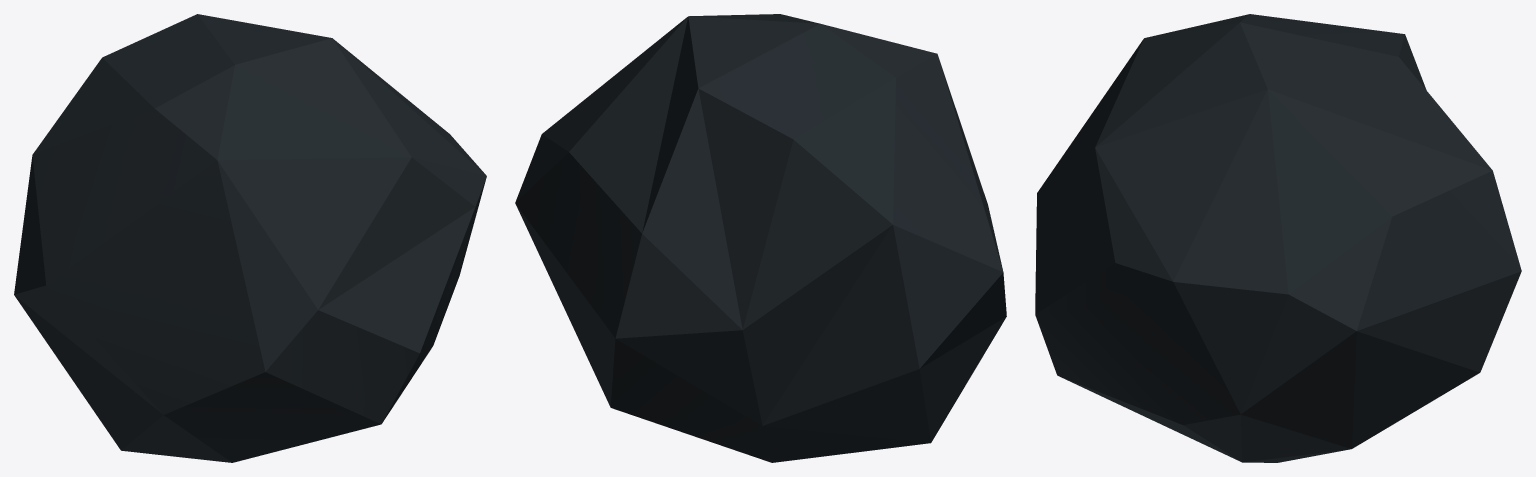
The model's file is Asteroid_s_12.FBX.
The picture shows the model from 3 angles, left to right: view 1: azimuth 30°, elevation 25°; view 2: azimuth 150°, elevation 25°; view 3: azimuth 270°, elevation 25°; orthographic projection. The views are drawn at different scales.
Visible parts, largest first — view 1: Asteroid_s_12; view 2: Asteroid_s_12; view 3: Asteroid_s_12.
Boxes of the visible parts, bbox=[...] form: Asteroid_s_12: bbox=[14, 14, 486, 462]; Asteroid_s_12: bbox=[515, 14, 1006, 462]; Asteroid_s_12: bbox=[1035, 14, 1521, 462].
Size of the model in its own units: 197 by 180 by 190.
